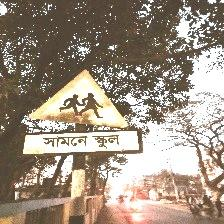School-in-front: (23, 68, 138, 156)
